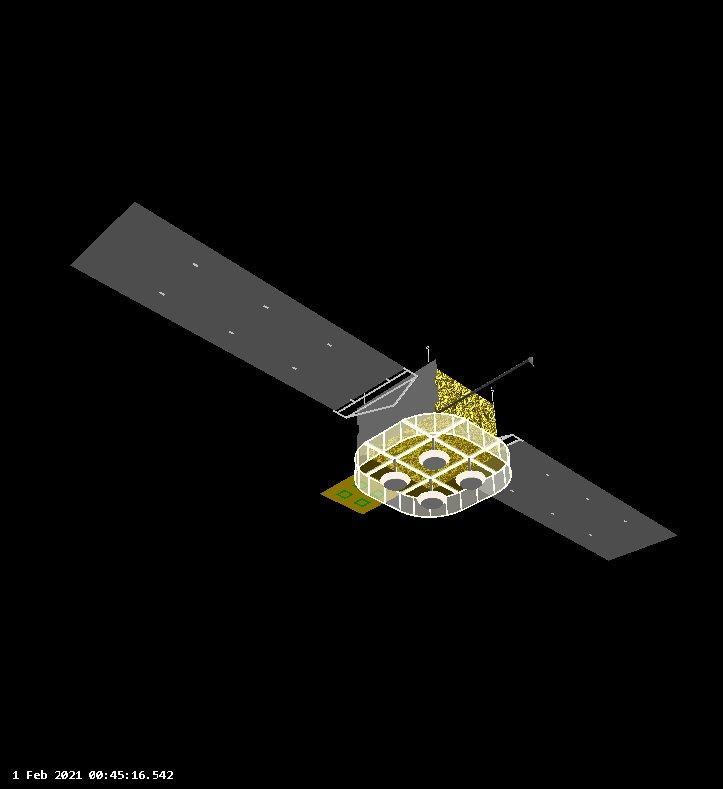antenna: (432, 354, 536, 418), (452, 471, 488, 492), (416, 448, 450, 470), (379, 472, 414, 493), (416, 493, 447, 512)
body: (352, 357, 503, 493)
solar: (68, 197, 420, 424), (473, 433, 680, 565)
